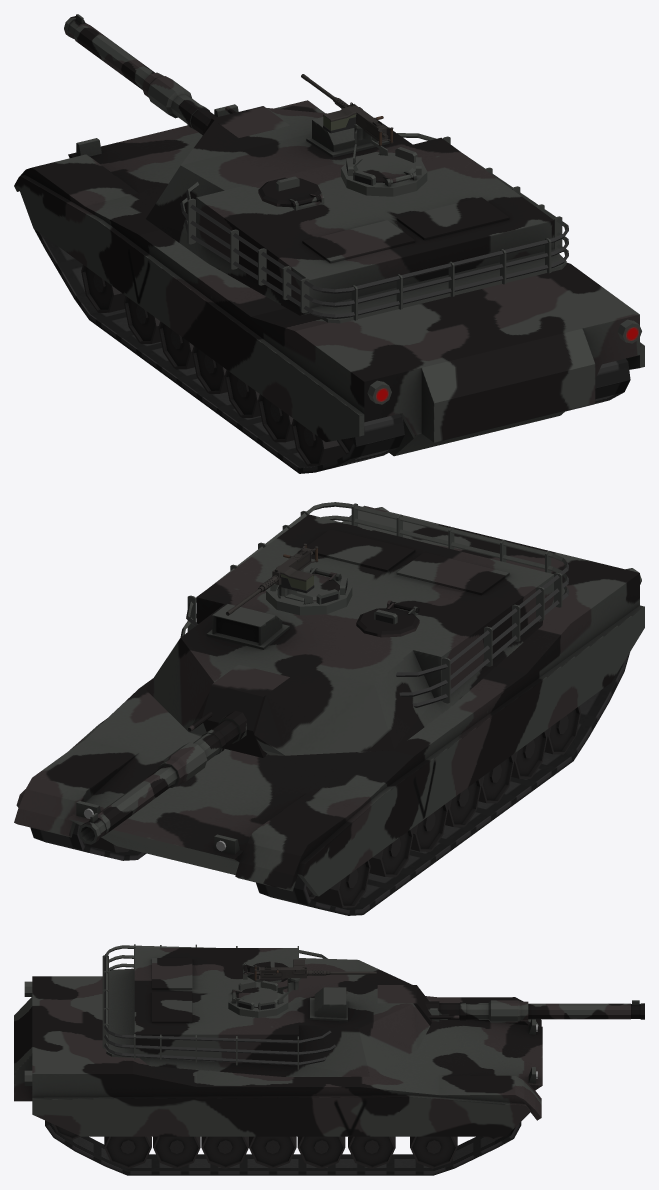
The model's file is M1A1_Abrams.fbx.
The picture shows the model from 3 angles, top to bottom: view 1: azimuth 30°, elevation 25°; view 2: azimuth 150°, elevation 25°; view 3: azimuth 270°, elevation 25°; orthographic projection. The views are drawn at different scales.
Visible parts, largest first — view 1: M1A1_Body (×2), M1A1_Turret_Top, M1A1_Track (×2), M1A1_Cannon, M1A1_Turret, M1A1_Wheel_7, M1A1_Hatch_Driver, M1A1_Hatch_Gunner, M1A1_Wheel_1, M1A1_Wheel_2, M1A1_Wheel_3, M1A1_Wheel_6 (+2 smaller); view 2: M1A1_Body (×2), M1A1_Turret_Top, M1A1_Cannon, M1A1_Track (×2), M1A1_Turret, M1A1_Hatch_Driver, M1A1_Wheel_1, M1A1_Wheel_2, M1A1_Wheel_3, M1A1_Wheel_4, M1A1_Wheel_7, M1A1_Wheel_6 (+2 smaller); view 3: M1A1_Body (×2), M1A1_Turret_Top, M1A1_Track, M1A1_Cannon, M1A1_Wheel_3, M1A1_Wheel_5, M1A1_Wheel_6, M1A1_Wheel_2, M1A1_Wheel_4, M1A1_Wheel_1, M1A1_Wheel_7, M1A1_Turret (+2 smaller).
Part boxes in pixels (left/top/right/bottom): M1A1_Body (×2): left=14, top=74, right=644, bottom=456; M1A1_Turret_Top: left=146, top=108, right=568, bottom=323; M1A1_Track (×2): left=34, top=229, right=630, bottom=473; M1A1_Cannon: left=64, top=14, right=289, bottom=137; M1A1_Turret: left=341, top=147, right=427, bottom=196; M1A1_Wheel_7: left=291, top=419, right=345, bottom=466; M1A1_Hatch_Driver: left=258, top=177, right=321, bottom=207; M1A1_Hatch_Gunner: left=353, top=155, right=415, bottom=184; M1A1_Wheel_1: left=81, top=265, right=125, bottom=312; M1A1_Wheel_2: left=123, top=296, right=160, bottom=343; M1A1_Wheel_3: left=158, top=321, right=194, bottom=369; M1A1_Wheel_6: left=258, top=394, right=294, bottom=442; M1A1_Body (×2): left=14, top=505, right=644, bottom=896; M1A1_Turret_Top: left=146, top=502, right=568, bottom=755; M1A1_Cannon: left=78, top=665, right=289, bottom=844; M1A1_Track (×2): left=30, top=652, right=629, bottom=915; M1A1_Turret: left=266, top=567, right=352, bottom=615; M1A1_Hatch_Driver: left=356, top=601, right=419, bottom=637; M1A1_Wheel_1: left=312, top=860, right=370, bottom=907; M1A1_Wheel_2: left=369, top=829, right=413, bottom=877; M1A1_Wheel_3: left=411, top=803, right=447, bottom=851; M1A1_Wheel_4: left=445, top=779, right=481, bottom=827; M1A1_Wheel_7: left=544, top=706, right=580, bottom=754; M1A1_Wheel_6: left=511, top=731, right=547, bottom=778; M1A1_Body (×2): left=14, top=965, right=542, bottom=1136; M1A1_Turret_Top: left=102, top=944, right=429, bottom=1076; M1A1_Track: left=45, top=1120, right=521, bottom=1175; M1A1_Cannon: left=377, top=985, right=644, bottom=1025; M1A1_Wheel_3: left=297, top=1136, right=345, bottom=1168; M1A1_Wheel_5: left=201, top=1136, right=248, bottom=1168; M1A1_Wheel_6: left=153, top=1136, right=200, bottom=1168; M1A1_Wheel_2: left=348, top=1136, right=395, bottom=1168; M1A1_Wheel_4: left=249, top=1136, right=296, bottom=1168; M1A1_Wheel_1: left=410, top=1136, right=457, bottom=1168; M1A1_Wheel_7: left=104, top=1136, right=151, bottom=1168; M1A1_Turret: left=228, top=980, right=288, bottom=1017.
Bounding box in the file's own units: 7.77 × 6.21 × 20.43.
